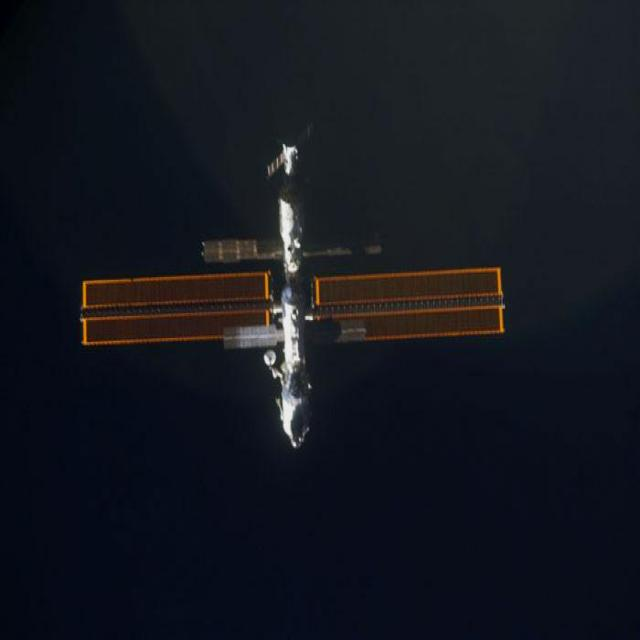medium_debris: (81, 146, 504, 447)
